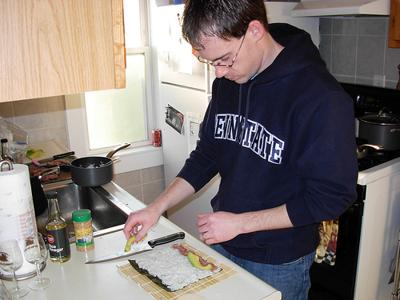person: (123, 2, 358, 298)
